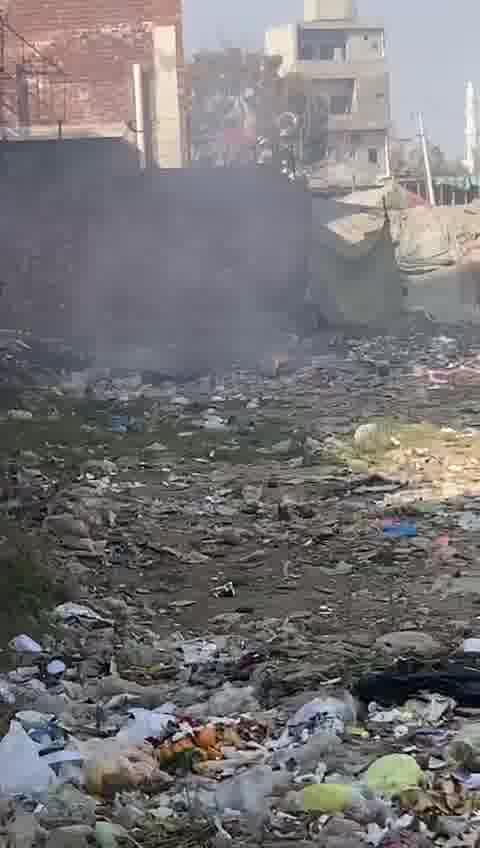garbage: (5, 590, 480, 848), (23, 346, 479, 559)
